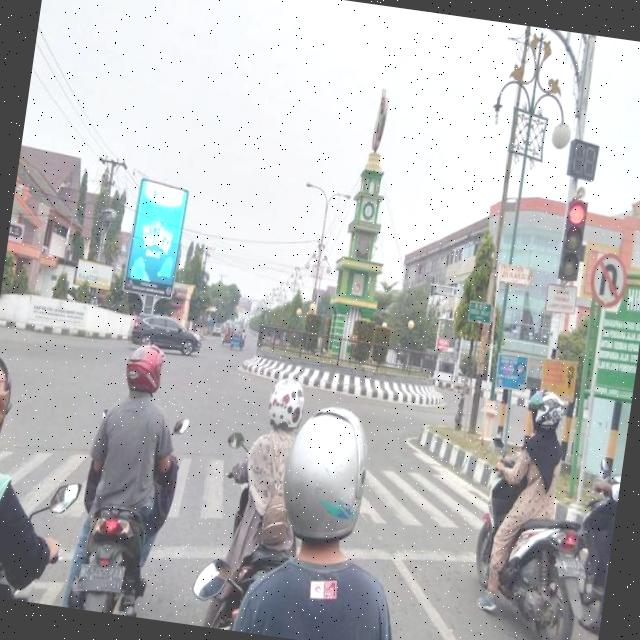Czerwone swiatlo: (554, 197, 592, 286)
